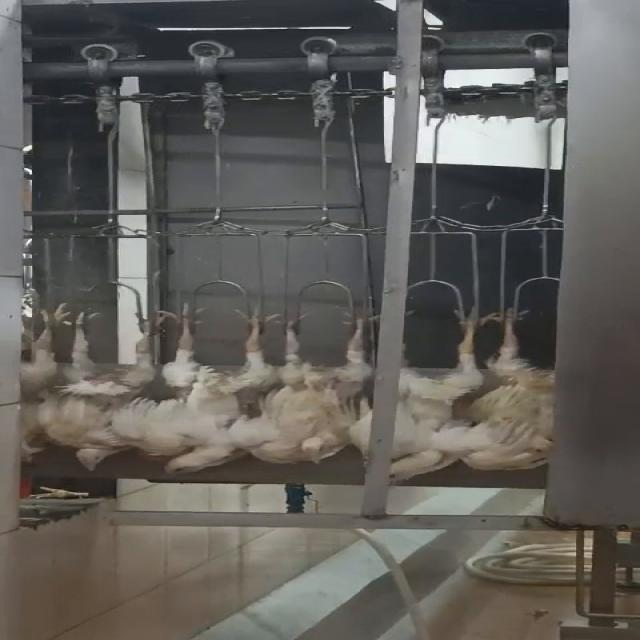chicken: (352, 309, 493, 490), (139, 308, 277, 477), (256, 308, 400, 468), (471, 298, 565, 472), (54, 304, 150, 472), (0, 298, 61, 467)
